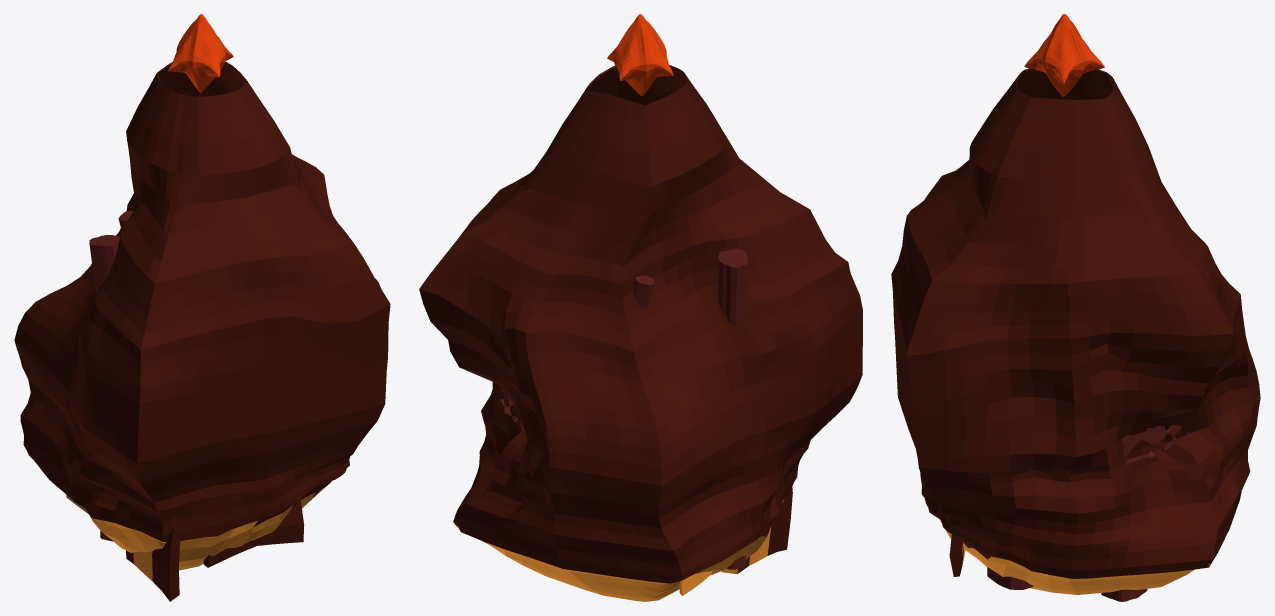
The model's file is AshenRuinsLV3V2.1.fbx.
3 views of the same model, side by side, from view 1: azimuth 30°, elevation 25°; view 2: azimuth 150°, elevation 25°; view 3: azimuth 270°, elevation 25° (orthographic). The views are drawn at different scales.
Visible parts, largest first — view 1: Plane.133, Plane.134, Plane.127; view 2: Plane.133, Plane.134, Plane.127; view 3: Plane.133, Plane.134.
Part boxes in pixels (<box>): Plane.133: <box>14,61,390,601</box>; Plane.134: <box>168,14,233,92</box>; Plane.127: <box>89,235,119,541</box>; Plane.133: <box>419,65,862,601</box>; Plane.134: <box>607,14,673,96</box>; Plane.127: <box>717,248,747,569</box>; Plane.133: <box>891,68,1260,594</box>; Plane.134: <box>1024,14,1104,96</box>.
Bounding box in the file's own units: 14786 × 26233 × 15573.
